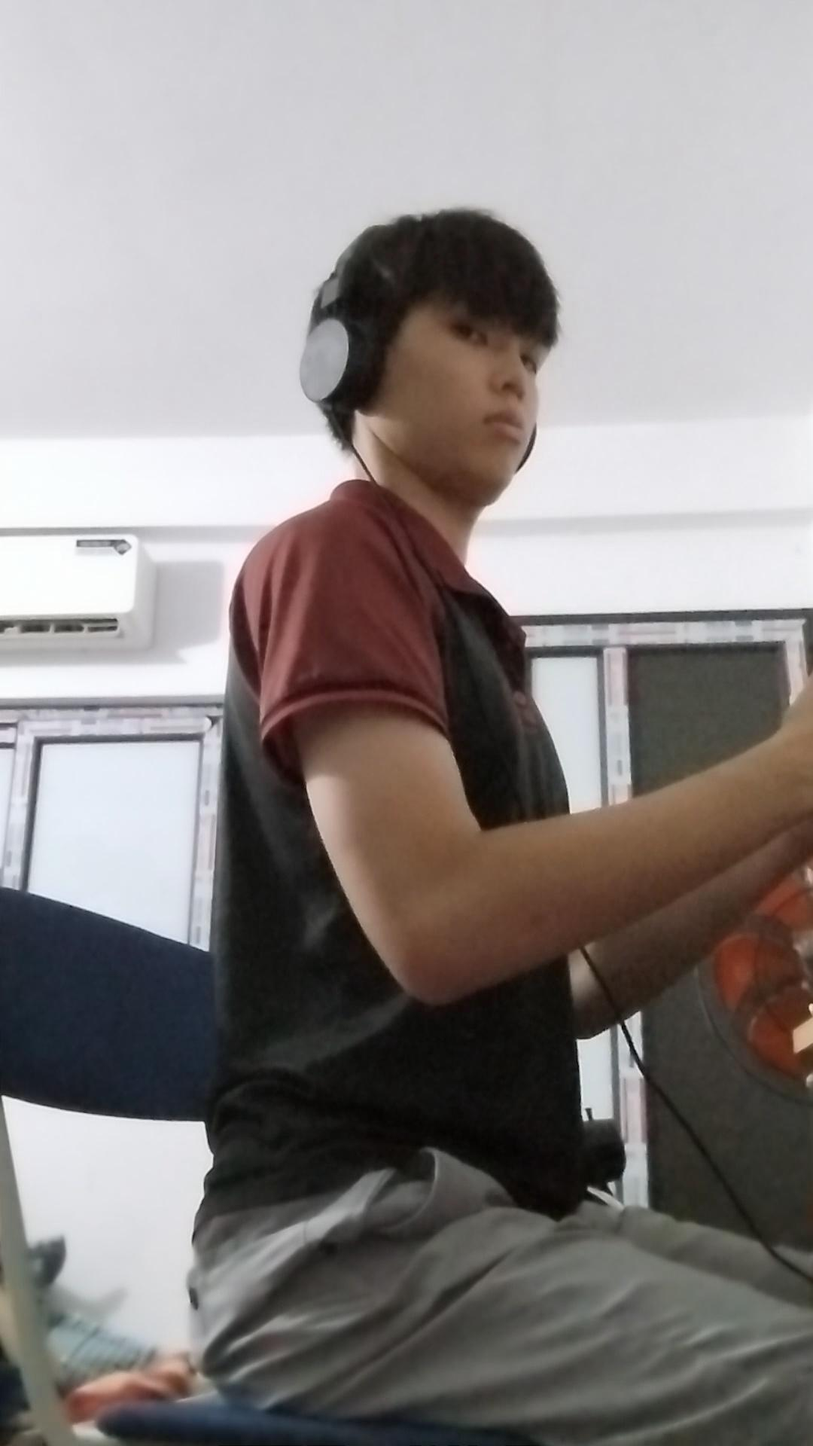GoodPosture: (187, 209, 812, 1445)
